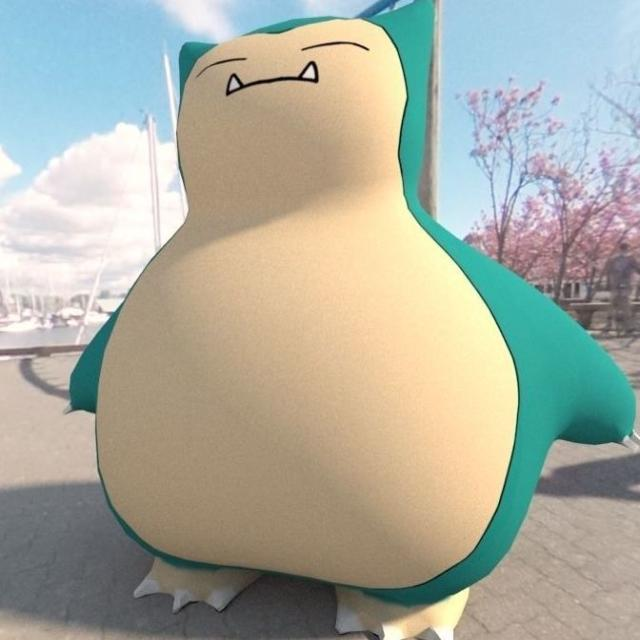Snorlax: (60, 0, 531, 640)
